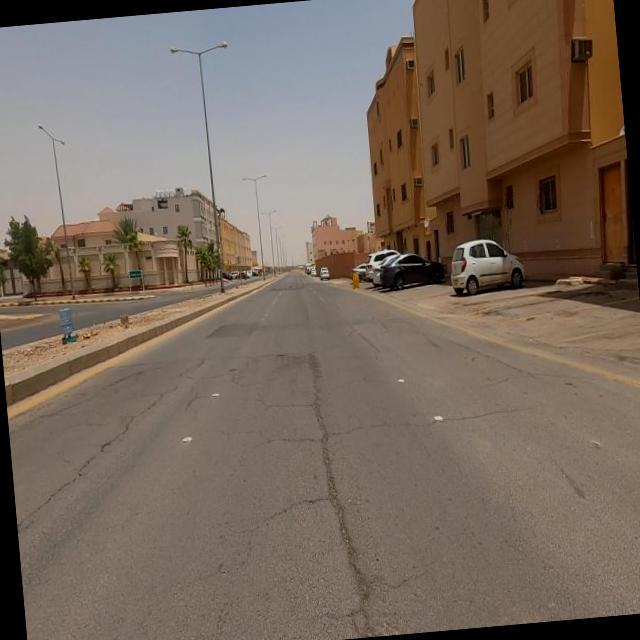debris: (30, 258, 103, 376)
